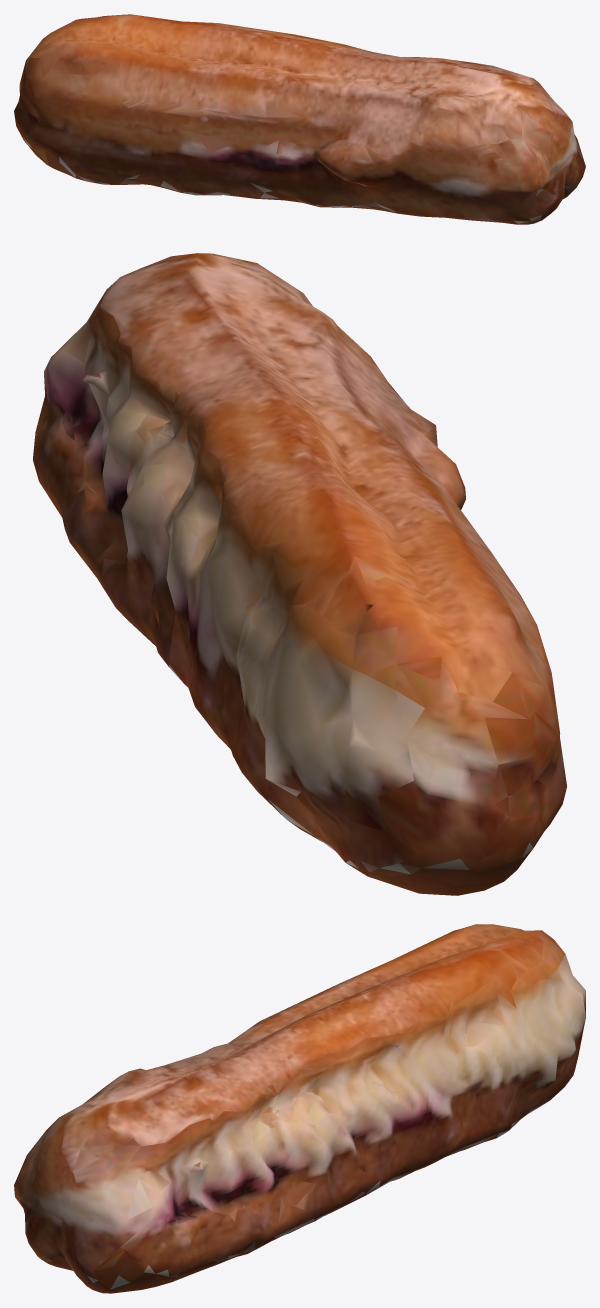
The model's file is eclaire_1820.obj.
The picture shows the model from 3 angles, top to bottom: view 1: azimuth 30°, elevation 25°; view 2: azimuth 150°, elevation 25°; view 3: azimuth 270°, elevation 25°; orthographic projection. The views are drawn at different scales.
Bounding box in the file's own units: 93.91 × 31.74 × 91.23.
1 material, 1 textured.
